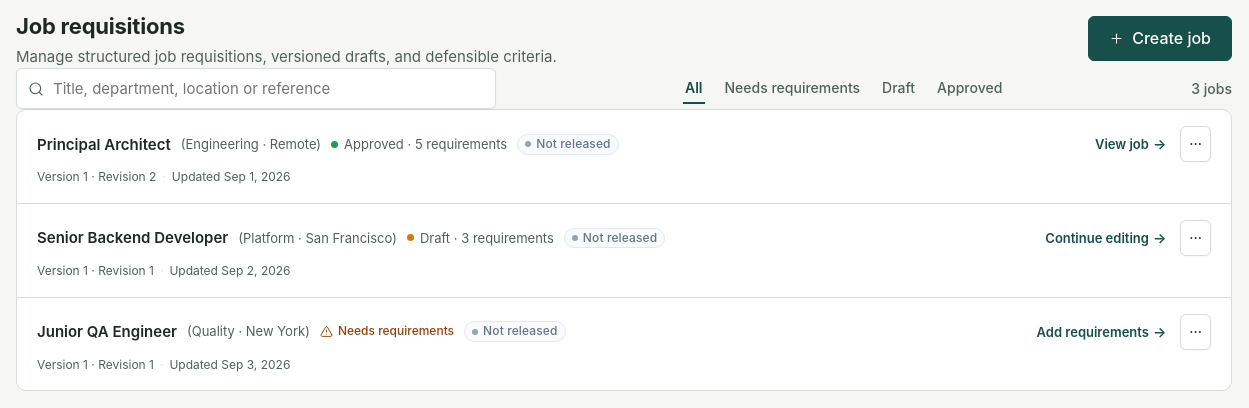
Test: Phase 2B.3: Jobs Workspace & Requirement Builder › Jobs Directory Status Calculation and Tab Filtering › filters correctly by Draft tab and excludes Approved jobs
What coordinates should you click on to do the following:
click the tab "Draft"
I would click on:
 (899, 89)
Its box is [880, 73, 917, 104].
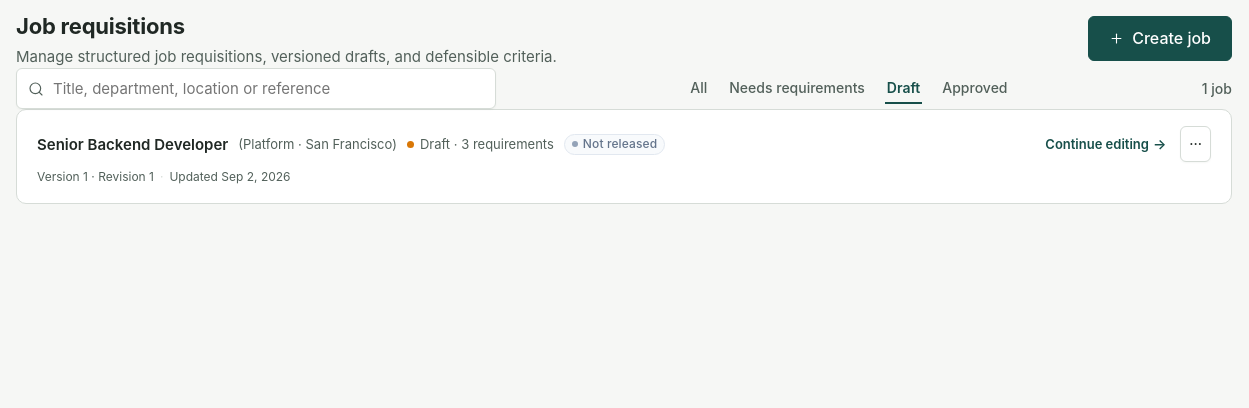
Now the text "Principal Architect" is gone
Now the text "Junior QA Engineer" is gone
Now the text "1 job" is shown, box [1202, 78, 1232, 100]
